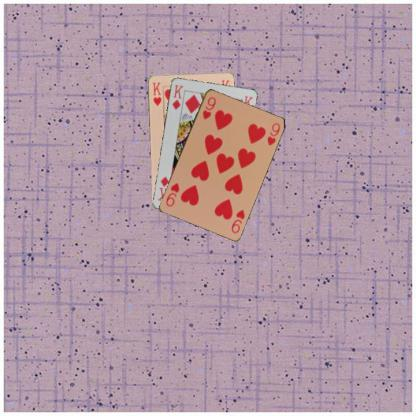9h: (229, 206, 246, 234), (200, 94, 217, 121)
Kd: (169, 82, 184, 110)
Kh: (150, 80, 162, 107)
